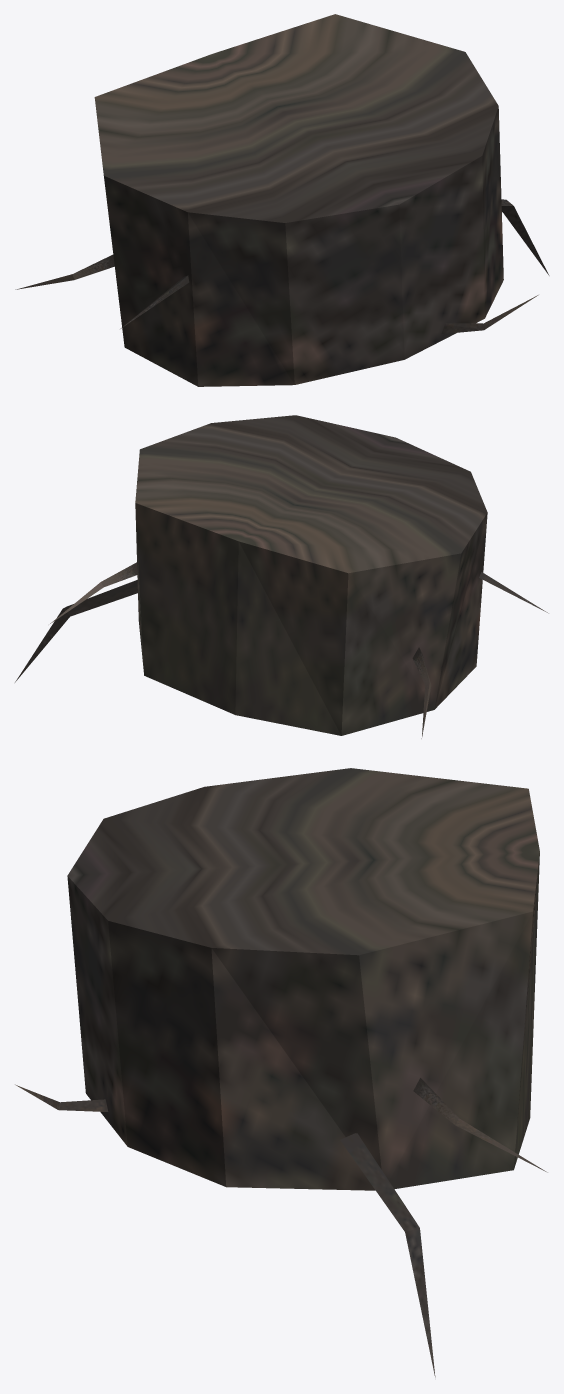
Rendered from trompa10.obj.
3 renders of one model, top to bottom at view 1: azimuth 30°, elevation 25°; view 2: azimuth 150°, elevation 25°; view 3: azimuth 270°, elevation 25°, orthographic. The views are drawn at different scales.
Parts seen in each view (by area): view 1: pasted__polySurface82 group; view 2: pasted__polySurface82 group; view 3: pasted__polySurface82 group.
Boxes of the visible parts, box(x1,y1,x2,y2) form: pasted__polySurface82 group: box(15, 14, 549, 386); pasted__polySurface82 group: box(15, 415, 548, 738); pasted__polySurface82 group: box(15, 768, 547, 1377).
Size of the model in its own units: 1.23 by 0.6263 by 0.8509.
1 material, 1 textured.
